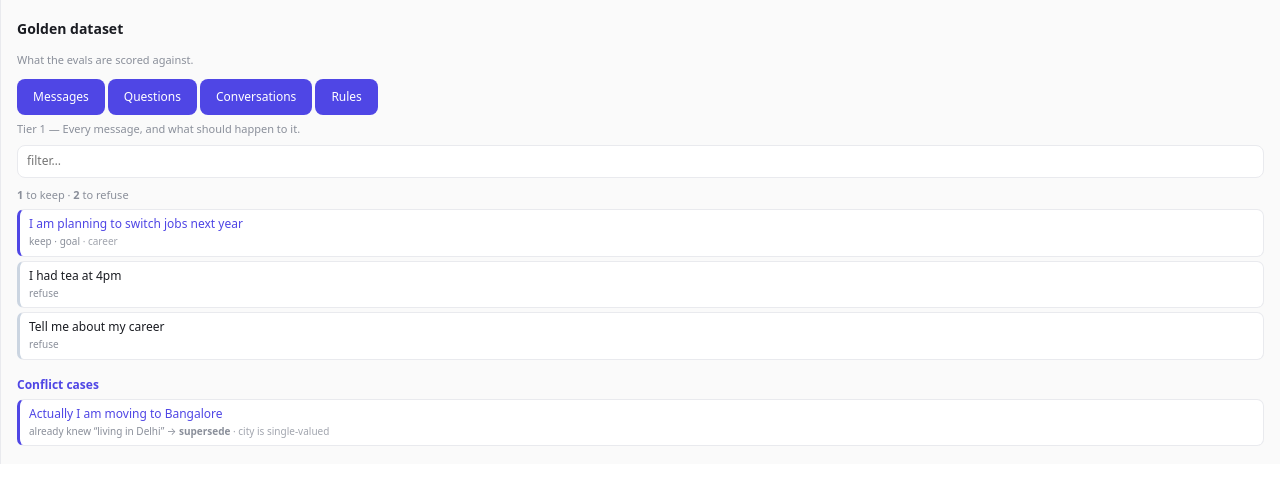
Test: names the memories a question should surface, not their ids
Click the button "Questions".
click(152, 97)  # box x1=108 y1=79 x2=197 y2=115
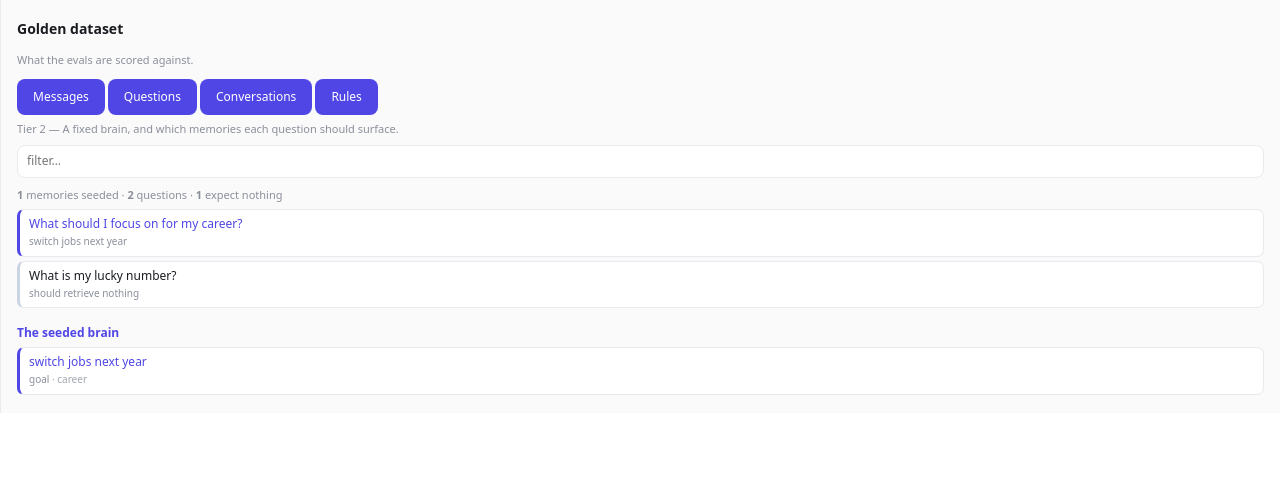
Now the text "What should I focus on for my career?" is shown, box x1=29 y1=215 x2=242 y2=232
Now the text "switch jobs next year" below "What should I focus on for my career?" is shown, box x1=29 y1=234 x2=127 y2=248
Now the text "should retrieve nothing" is shown, box x1=29 y1=286 x2=139 y2=300
